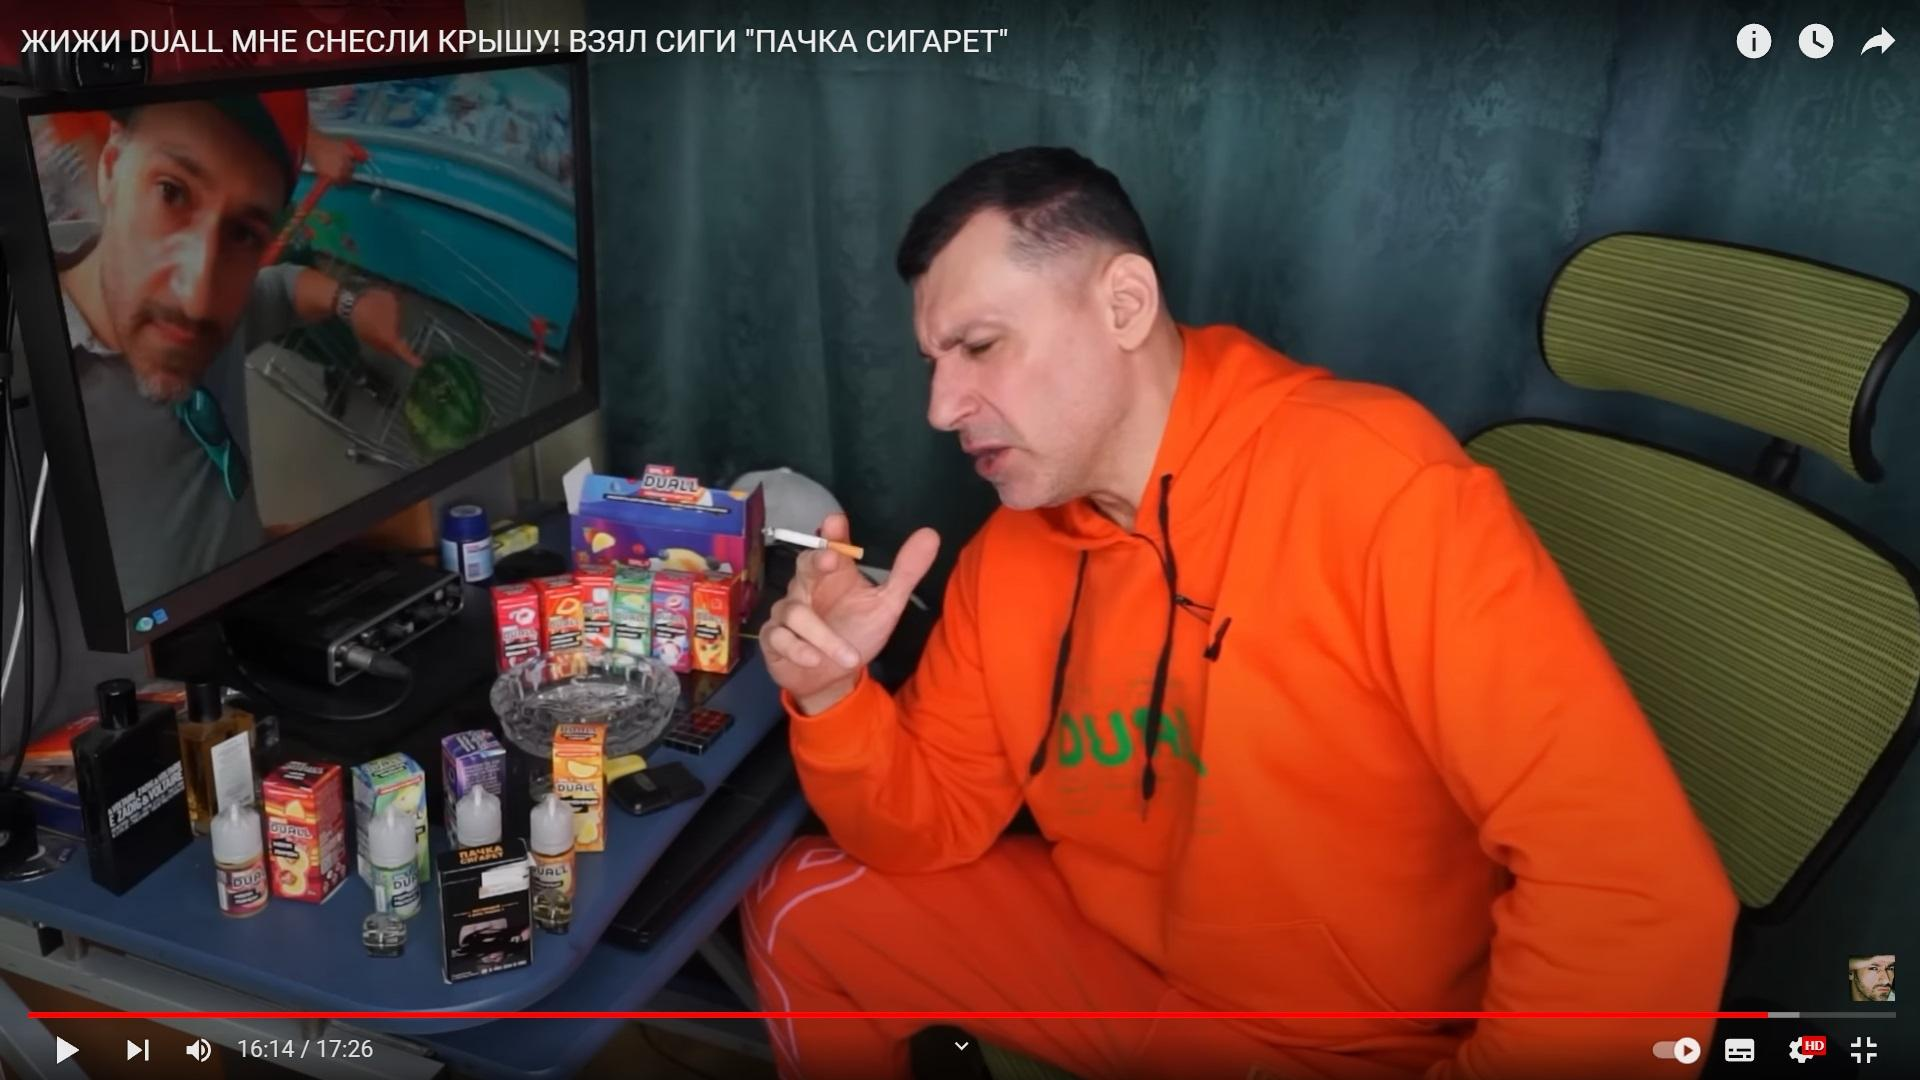cigarette: (761, 526, 864, 559)
